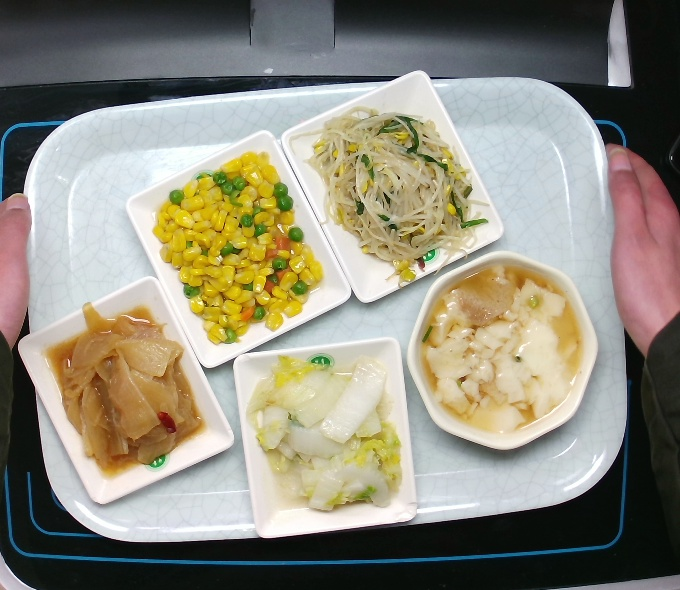wcq-DaBaiCai: (245, 351, 407, 515)
wcq-DongGua: (39, 298, 212, 484)
wcq-DouYa: (287, 101, 493, 292)
wcq-ShuiZhengDan: (412, 259, 588, 439)
wcq-TianMiTianDou: (150, 148, 328, 350)
